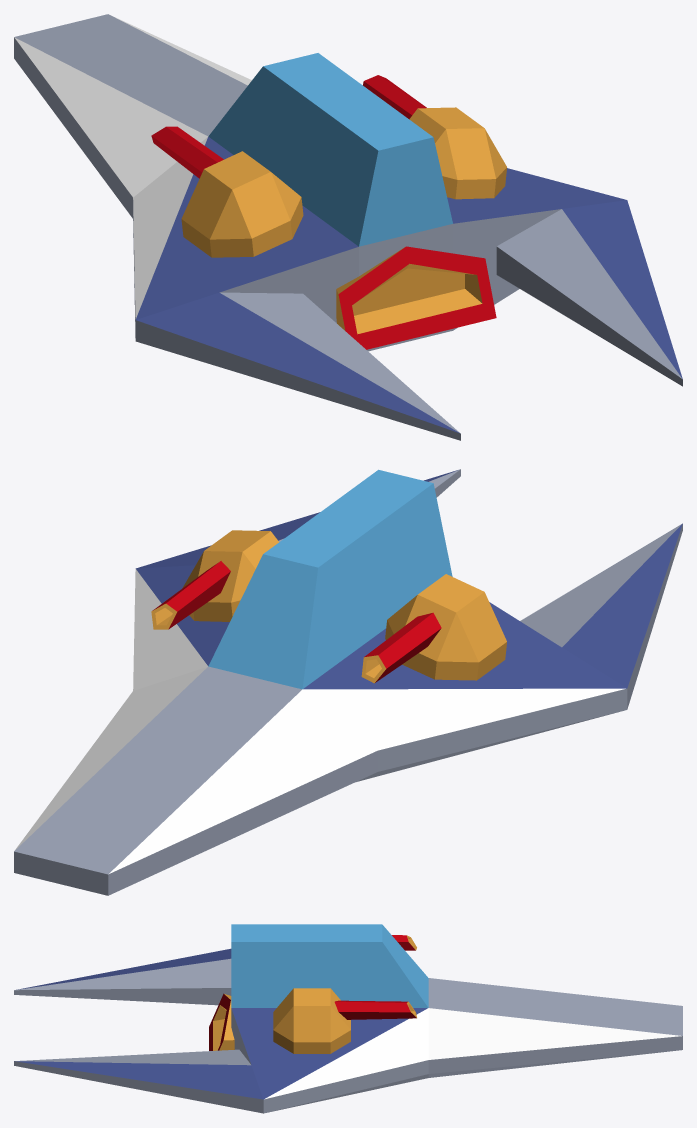
The model's file is SPACE_SHIP_2.fbx.
3 renders of one model, top to bottom at view 1: azimuth 30°, elevation 25°; view 2: azimuth 150°, elevation 25°; view 3: azimuth 270°, elevation 25°, orthographic. The views are drawn at different scales.
Visible parts, largest first — view 1: SPACE_SHIP_2; view 2: SPACE_SHIP_2; view 3: SPACE_SHIP_2.
Part boxes in pixels (x1,y1,x2,y2): SPACE_SHIP_2: [14, 14, 682, 440]; SPACE_SHIP_2: [14, 469, 682, 895]; SPACE_SHIP_2: [14, 924, 682, 1113].
Bounding box in the file's own units: 199 × 76.54 × 358.
